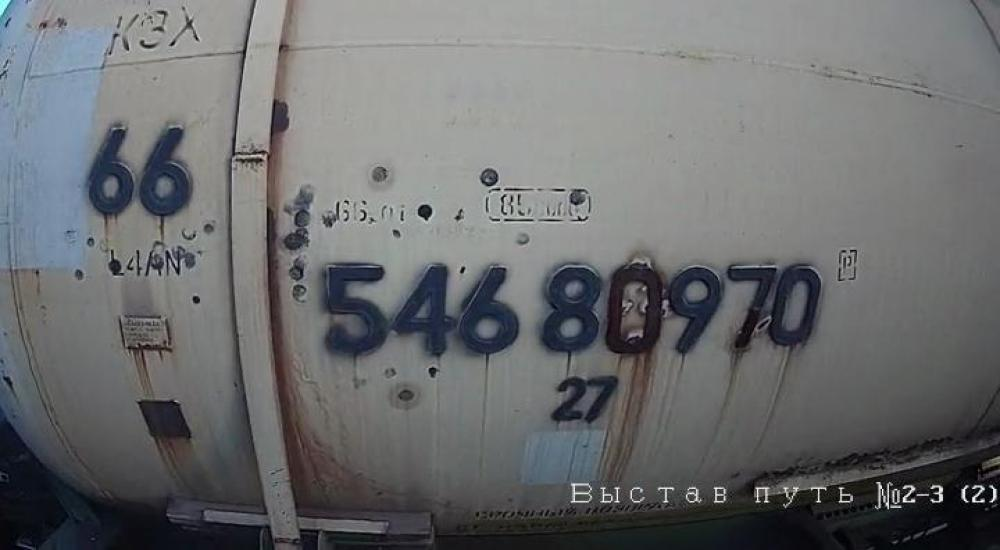Wagon-number: (317, 255, 824, 360)
